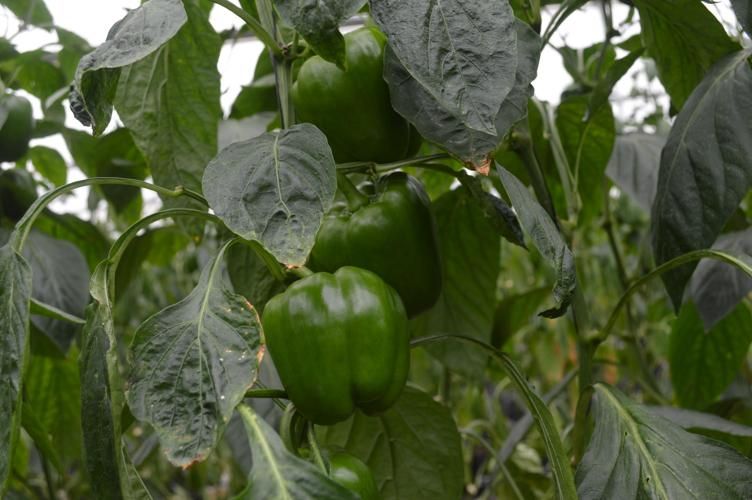BellPepper: (251, 282, 407, 435), (288, 24, 446, 169), (303, 183, 457, 318)
